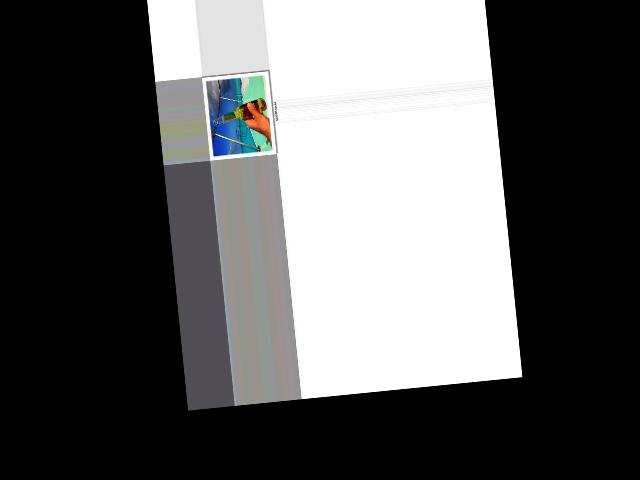beer: (211, 96, 267, 127)
